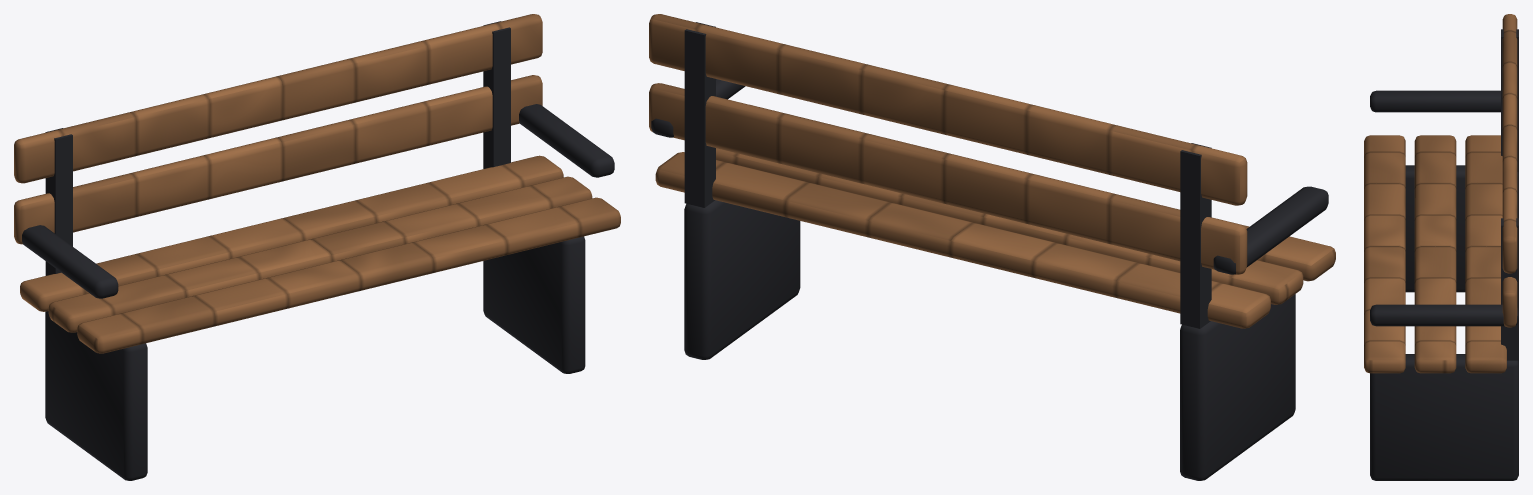
Rendered from bench.gltf.
3 views of the same model, side by side, from view 1: azimuth 30°, elevation 25°; view 2: azimuth 150°, elevation 25°; view 3: azimuth 270°, elevation 25° (orthographic). The views are drawn at different scales.
Parts seen in each view (by area): view 1: bench_mesh; view 2: bench_mesh; view 3: bench_mesh.
Boxes of the visible parts, <box> form: bench_mesh: <box>14,14,620,480</box>; bench_mesh: <box>649,14,1335,480</box>; bench_mesh: <box>1364,14,1518,480</box>.
Size of what is drawn, in the model's own units: 1.8 by 0.96 by 0.52.
2 materials, 1 textured.
